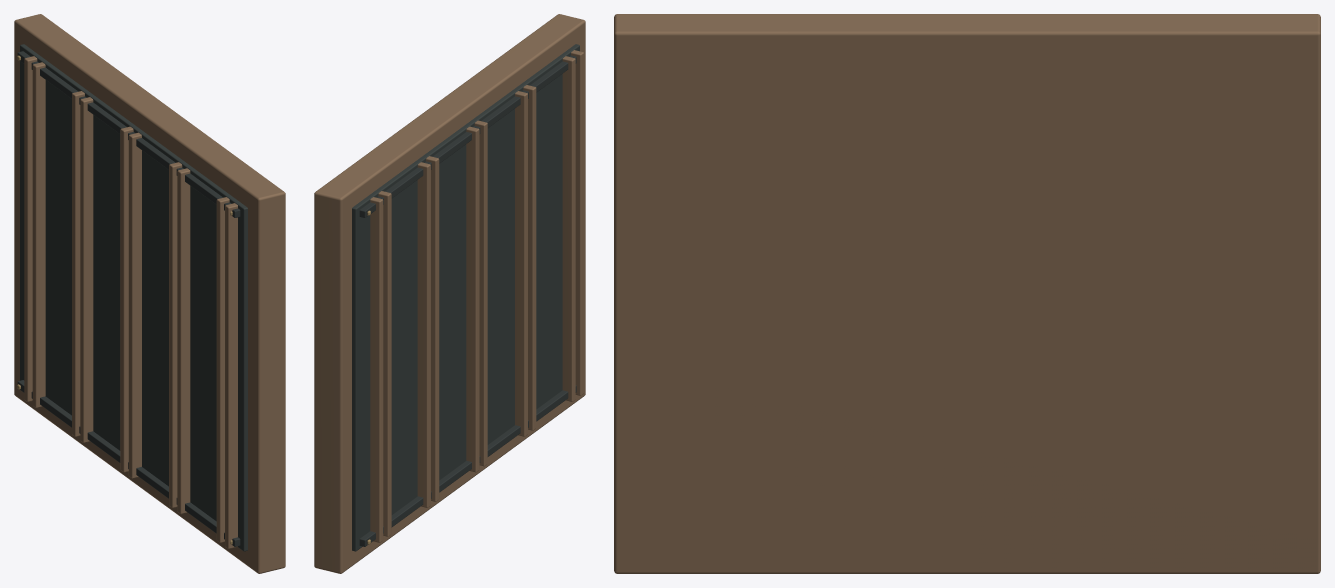
File: acoustic-cassette.glb
3 views of the same model, side by side, from view 1: azimuth 30°, elevation 25°; view 2: azimuth 150°, elevation 25°; view 3: azimuth 270°, elevation 25° (orthographic). The views are drawn at different scales.
Parts seen in each view (by area): view 1: Joinery | oiled walnut, Acoustics | woven charcoal, Hardware | blackened steel; view 2: Joinery | oiled walnut, Acoustics | woven charcoal, Hardware | blackened steel; view 3: Joinery | oiled walnut.
Part boxes in pixels (<box>): Joinery | oiled walnut: <box>14,14,285,573</box>; Acoustics | woven charcoal: <box>20,44,247,551</box>; Hardware | blackened steel: <box>17,51,240,546</box>; Joinery | oiled walnut: <box>314,14,585,573</box>; Acoustics | woven charcoal: <box>352,44,579,551</box>; Hardware | blackened steel: <box>359,55,576,546</box>; Joinery | oiled walnut: <box>614,14,1320,573</box>.
Size of the model in its own units: 0.123 by 1.05 by 1.24.
